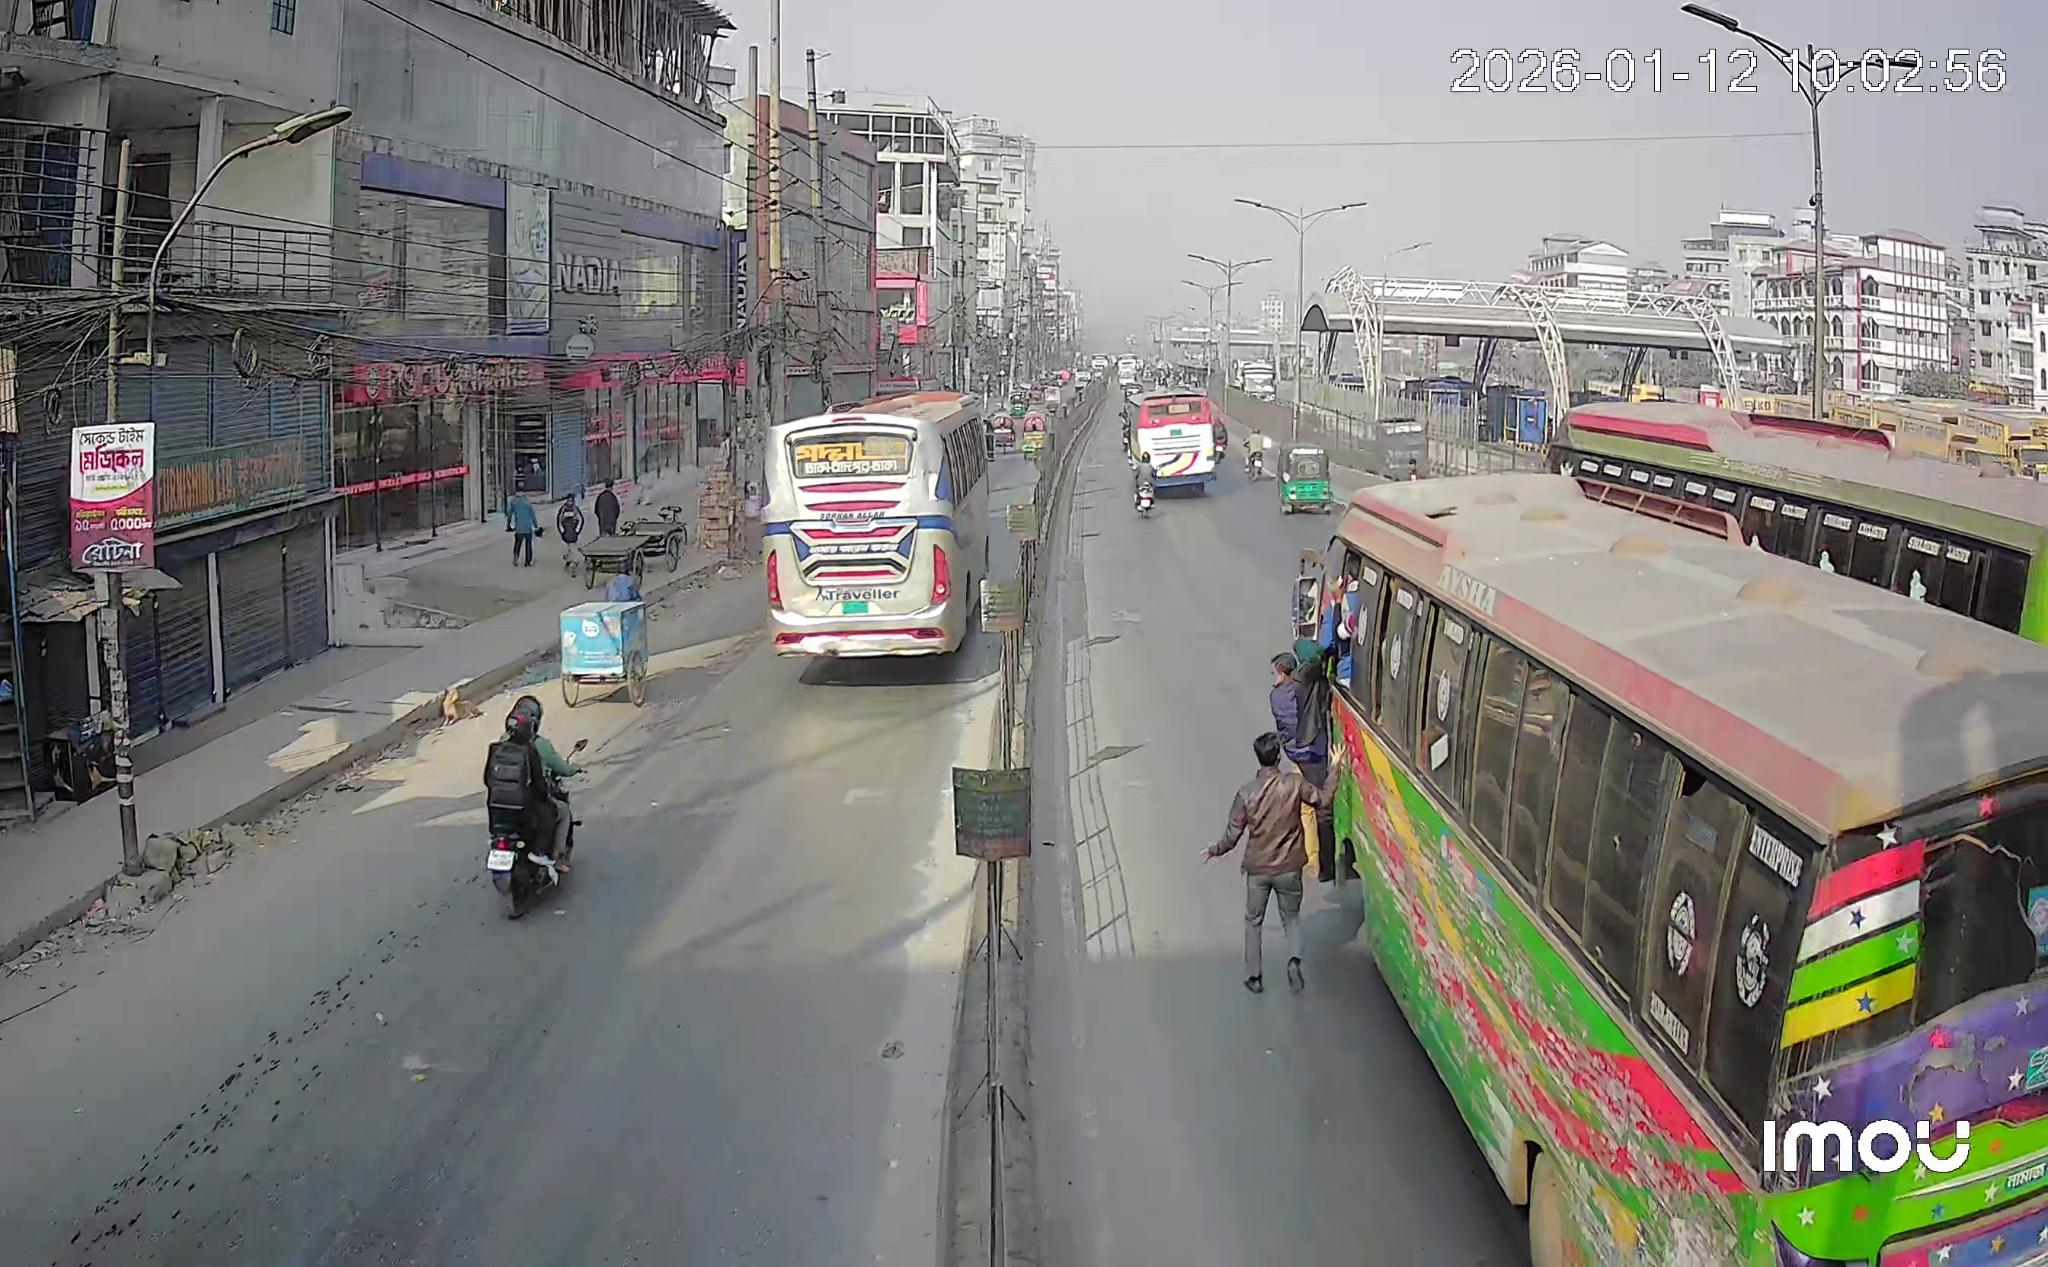Bus: (1298, 474, 2047, 1267), (1551, 404, 2047, 644), (761, 391, 993, 658), (1126, 392, 1227, 490)
Motorcycle: (483, 696, 582, 919), (1132, 458, 1156, 515), (1245, 433, 1270, 481)
